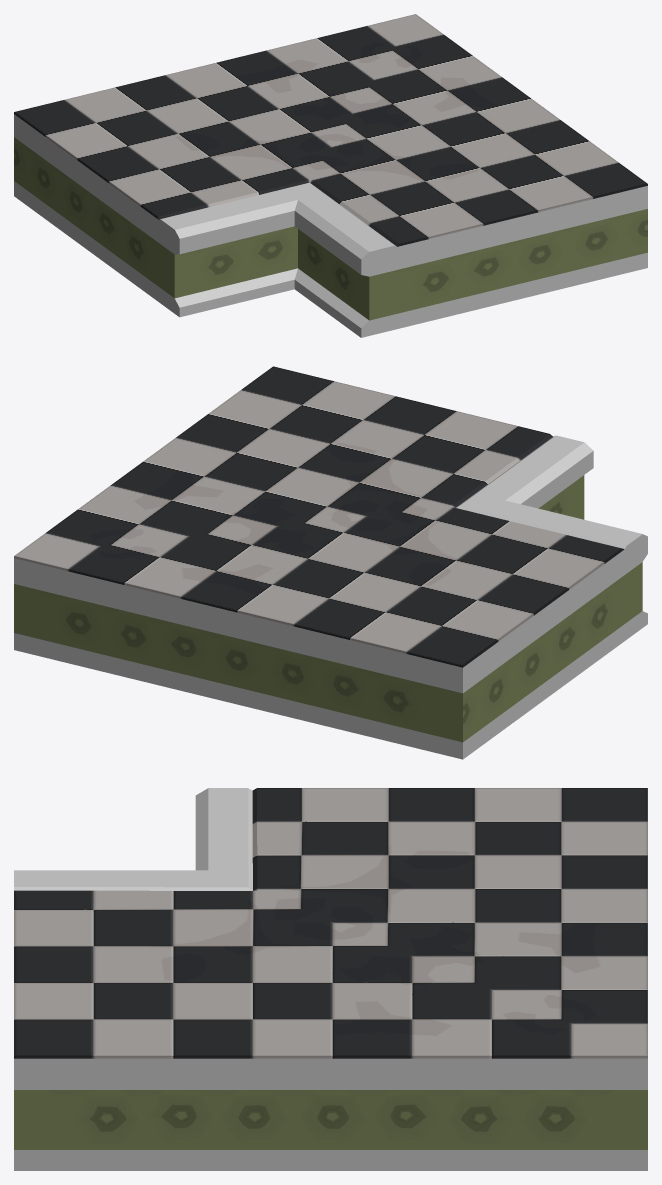
File: SM_Prop_Platform_02_Corner_R_01.fbx
The picture shows the model from 3 angles, top to bottom: view 1: azimuth 30°, elevation 25°; view 2: azimuth 150°, elevation 25°; view 3: azimuth 270°, elevation 25°; orthographic projection. The views are drawn at different scales.
Visible parts, largest first — view 1: SM_Prop_Platform_02_Corner_R_01; view 2: SM_Prop_Platform_02_Corner_R_01; view 3: SM_Prop_Platform_02_Corner_R_01.
Boxes of the visible parts, bbox=[...] form: SM_Prop_Platform_02_Corner_R_01: bbox=[14, 14, 647, 337]; SM_Prop_Platform_02_Corner_R_01: bbox=[14, 366, 647, 759]; SM_Prop_Platform_02_Corner_R_01: bbox=[14, 788, 647, 1170].
Size of the model in its own units: 250 by 50 by 250.
